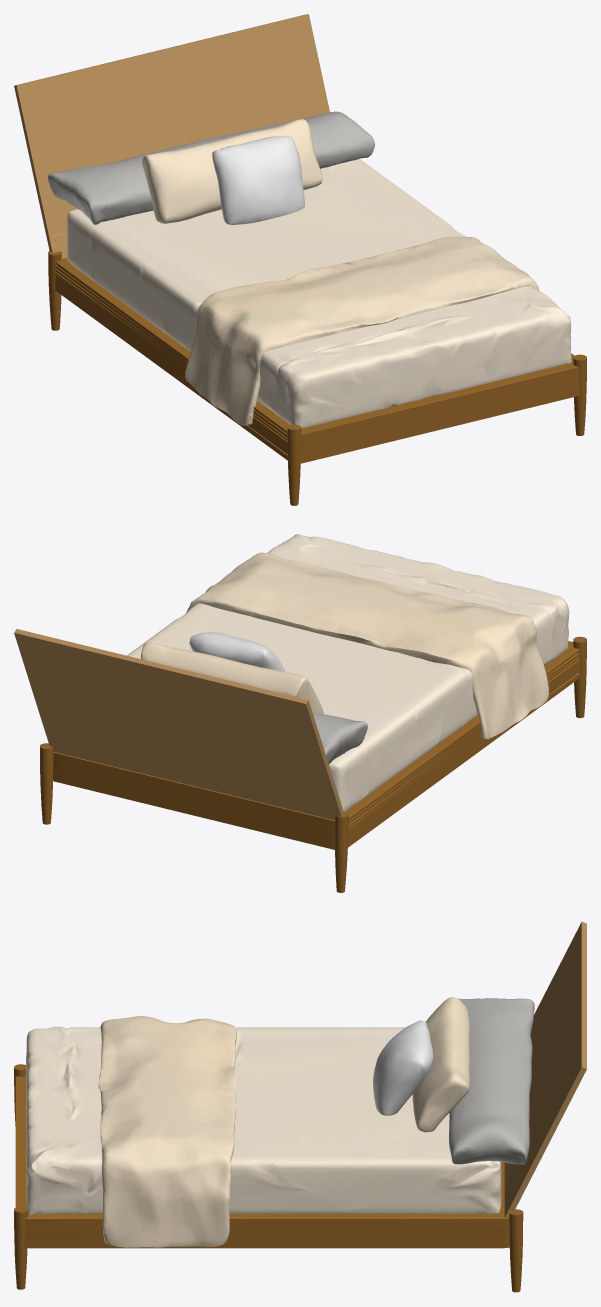
The model's file is bed_single.glb.
3 renders of one model, top to bottom at view 1: azimuth 30°, elevation 25°; view 2: azimuth 150°, elevation 25°; view 3: azimuth 270°, elevation 25°, orthographic. The views are drawn at different scales.
Parts seen in each view (by area): view 1: Object_2; view 2: Object_2; view 3: Object_2.
Part boxes in pixels (left/top/right/bottom): Object_2: left=14, top=14, right=586, bottom=505; Object_2: left=14, top=534, right=586, bottom=892; Object_2: left=14, top=921, right=586, bottom=1292.
Size of the model in its own units: 1.35 by 0.9009 by 2.1.
1 material, 1 textured.
